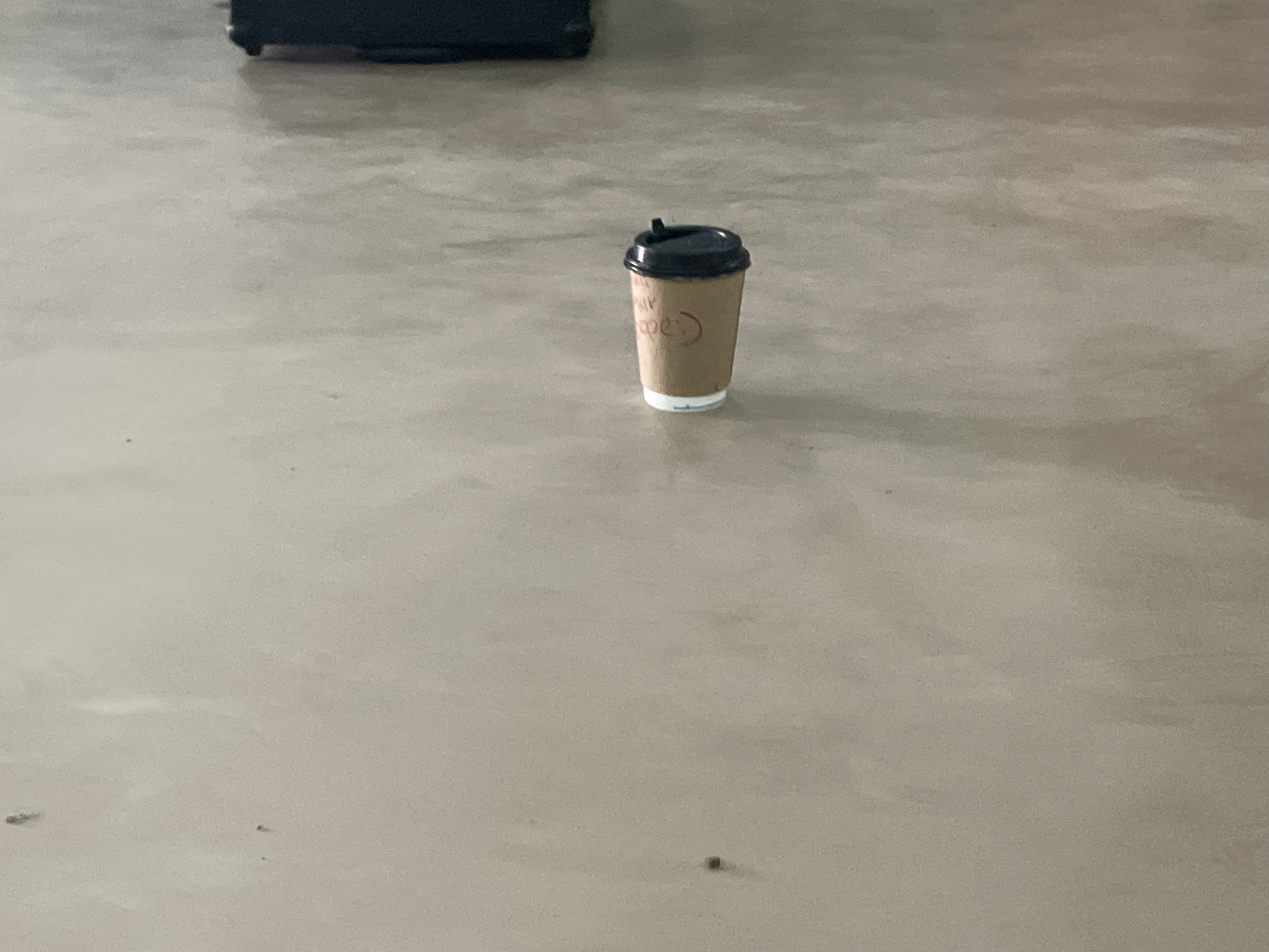cup: (623, 218, 751, 412)
